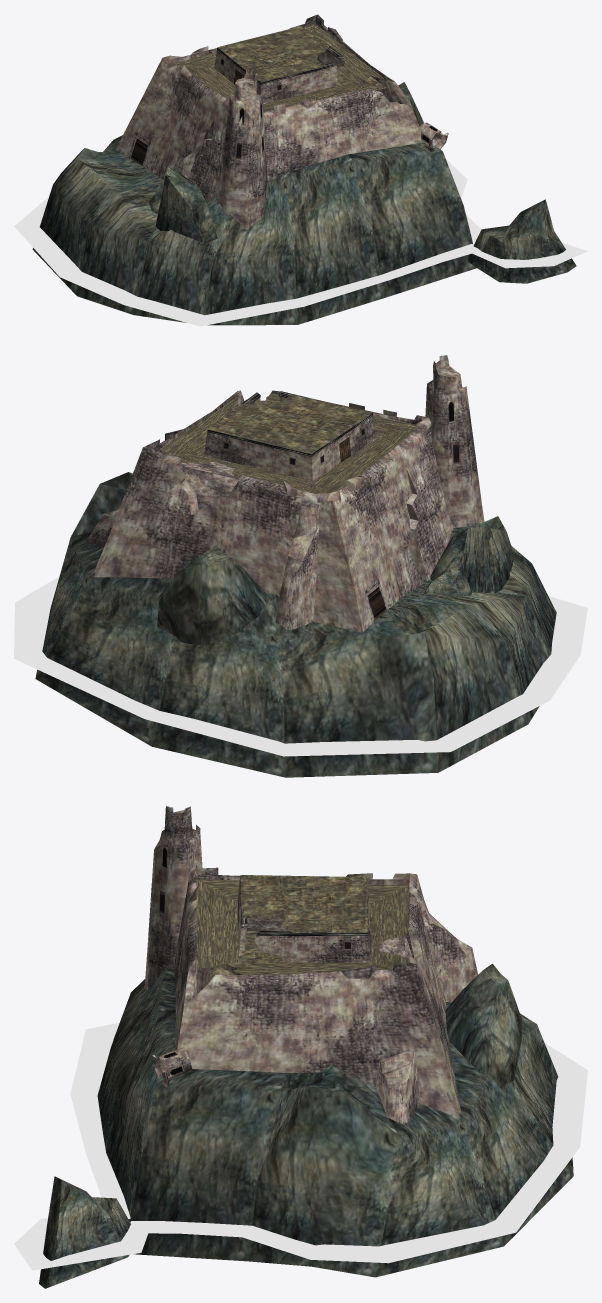
Rendered from pir_m_prp_ocn_fortIsland_destroyed.fbx.
The picture shows the model from 3 angles, top to bottom: view 1: azimuth 30°, elevation 25°; view 2: azimuth 150°, elevation 25°; view 3: azimuth 270°, elevation 25°; orthographic projection. The views are drawn at different scales.
Parts seen in each view (by area): view 1: terrain_main, fort_main, wave, large_tower, rock_water_01, floor01, rock_med_01, under, fort_secondFloor, over, exterior_parapets, floor01_under (+2 smaller); view 2: terrain_main, fort_main, wave, rock_med_02, large_tower, floor01, under, fort_secondFloor, rock_med_01, butress01, over, cover_plane01 (+5 smaller); view 3: terrain_main, fort_main, wave, floor01, rock_med_02, rock_water_01, large_tower, under, fort_secondFloor, over, butress01, butress02 (+5 smaller).
Boxes of the visible parts, <box> form: terrain_main: <box>32,82,476,325</box>; fort_main: <box>115,21,423,198</box>; wave: <box>14,159,587,326</box>; large_tower: <box>217,69,267,229</box>; rock_water_01: <box>468,199,576,283</box>; floor01: <box>176,24,384,111</box>; rock_med_01: <box>155,166,217,243</box>; under: <box>217,26,329,82</box>; fort_secondFloor: <box>214,50,344,104</box>; over: <box>218,26,325,81</box>; exterior_parapets: <box>162,14,343,114</box>; floor01_under: <box>177,52,348,108</box>; terrain_main: <box>35,472,556,777</box>; fort_main: <box>92,390,453,632</box>; wave: <box>14,577,587,756</box>; rock_med_02: <box>157,546,270,645</box>; large_tower: <box>425,355,484,527</box>; floor01: <box>160,393,416,493</box>; under: <box>208,393,372,453</box>; fort_secondFloor: <box>204,396,376,481</box>; rock_med_01: <box>430,516,514,593</box>; butress01: <box>275,501,319,630</box>; over: <box>210,395,371,453</box>; cover_plane01: <box>181,462,238,510</box>; terrain_main: <box>97,964,573,1277</box>; fort_main: <box>174,874,462,1118</box>; wave: <box>14,1022,587,1270</box>; floor01: <box>194,879,411,975</box>; rock_med_02: <box>445,963,522,1091</box>; rock_water_01: <box>39,1176,130,1288</box>; large_tower: <box>144,806,202,990</box>; under: <box>240,875,368,932</box>; fort_secondFloor: <box>237,879,371,962</box>; over: <box>240,876,368,931</box>; butress01: <box>417,889,477,1002</box>; butress02: <box>376,1050,420,1126</box>.
Bounding box in the file's own units: 24890 × 13149 × 21807.
3 materials, 3 textured.
